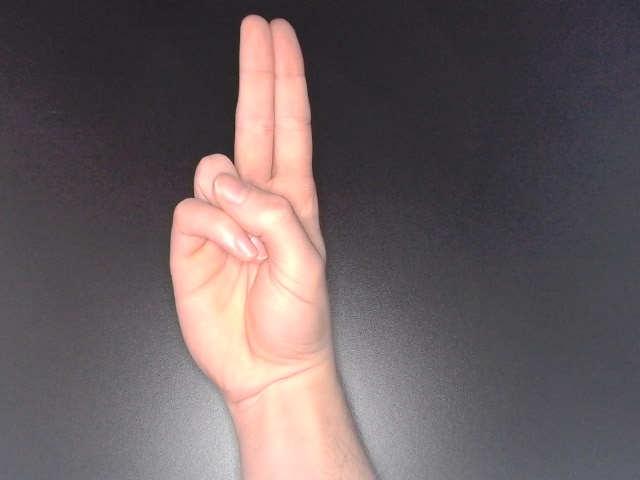r: (161, 11, 339, 415)
